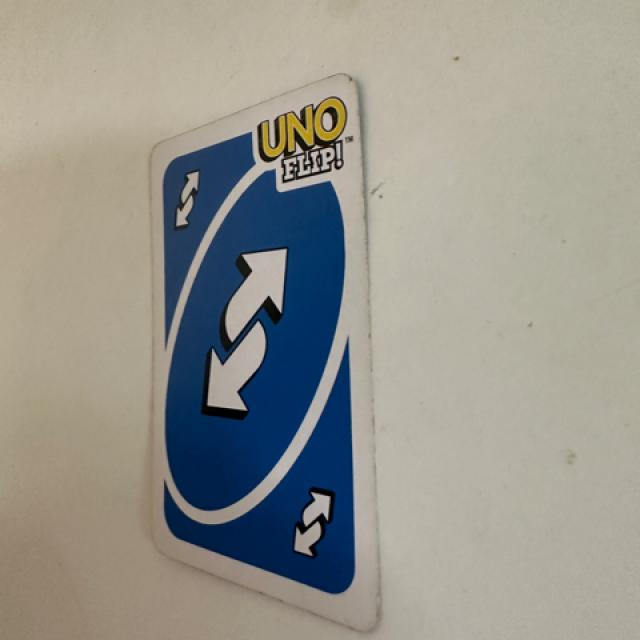lbluerevers-20: (156, 153, 225, 239)
